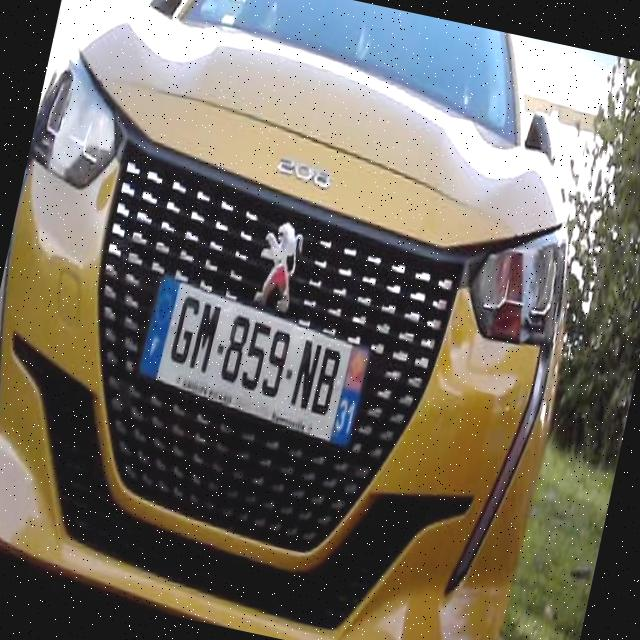EU: (128, 264, 384, 452)
France: (140, 271, 187, 383)
